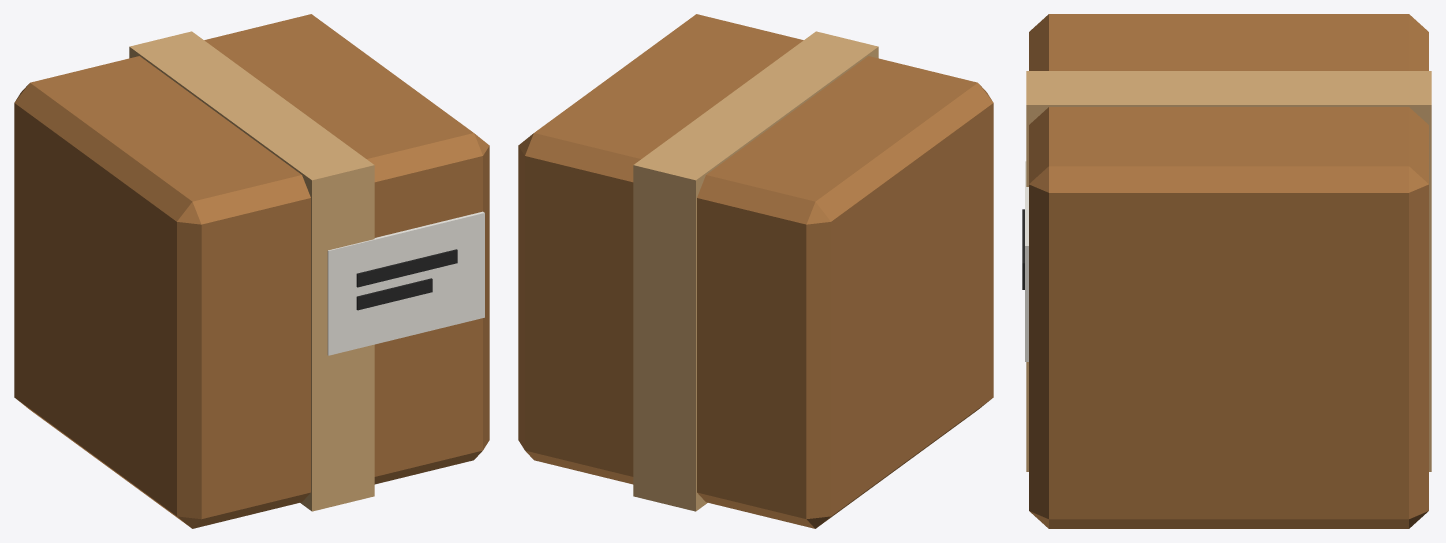
The model's file is package.glb.
The picture shows the model from 3 angles, left to right: view 1: azimuth 30°, elevation 25°; view 2: azimuth 150°, elevation 25°; view 3: azimuth 270°, elevation 25°; orthographic projection. The views are drawn at different scales.
Parts seen in each view (by area): view 1: package_box; view 2: package_box; view 3: package_box.
Boxes of the visible parts, x1,y1,x2,y2 form: package_box: [14, 14, 489, 528]; package_box: [518, 14, 993, 528]; package_box: [1022, 14, 1431, 528].
Bounding box in the file's own units: 0.5 × 0.506 × 0.511.
